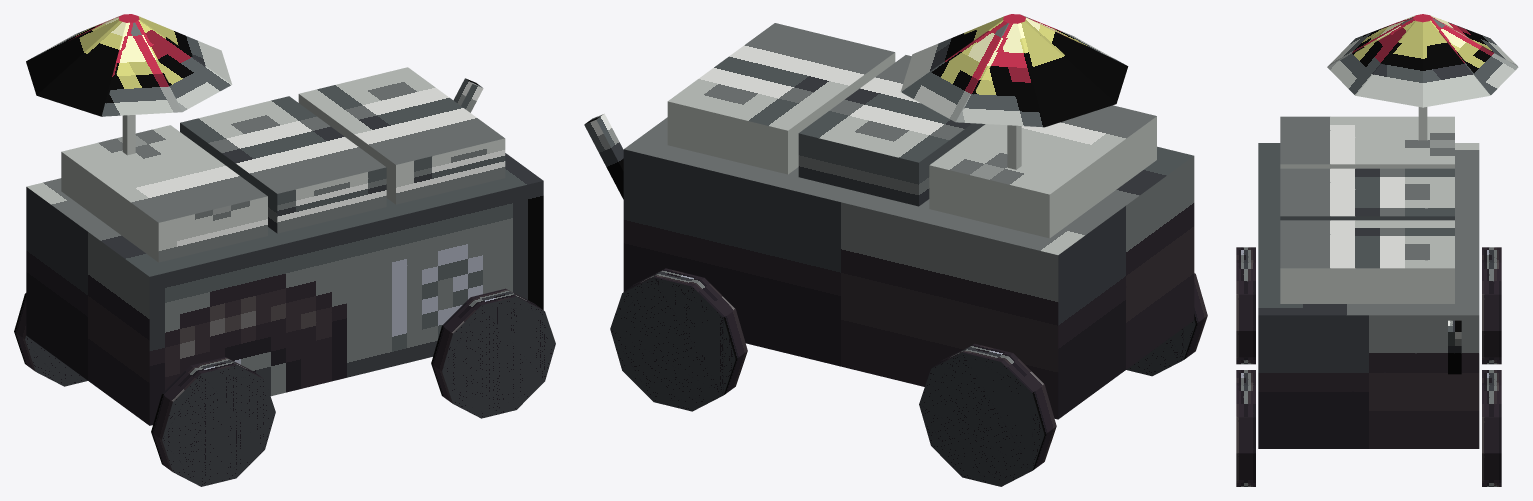
File: icecream_cart.glb
3 views of the same model, side by side, from view 1: azimuth 30°, elevation 25°; view 2: azimuth 150°, elevation 25°; view 3: azimuth 270°, elevation 25° (orthographic). The views are drawn at different scales.
Parts seen in each view (by area): view 1: Cart, Parasol; view 2: Cart, Parasol; view 3: Cart, Parasol.
Boxes of the visible parts, x1,y1,x2,y2 form: Cart: (14,67,555,486); Parasol: (26,14,232,155); Cart: (584,23,1207,486); Parasol: (900,14,1128,169); Cart: (1236,116,1501,486); Parasol: (1327,14,1518,140).
Size of the model in its own units: 1.94 by 1.55 by 1.15.
1 material, 1 textured.
